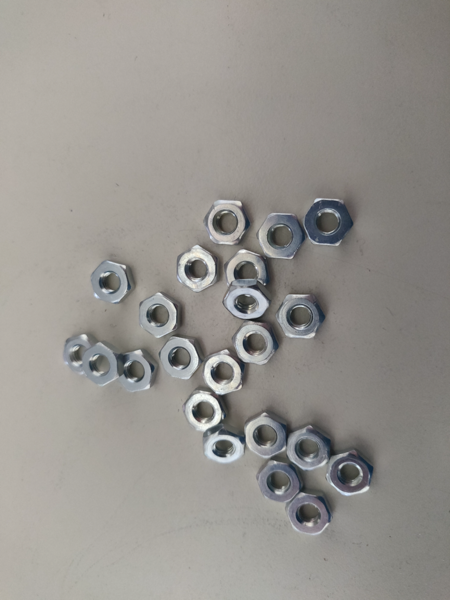nut: (202, 197, 252, 247), (305, 198, 354, 246), (328, 448, 375, 496), (177, 247, 224, 294), (244, 411, 289, 460), (278, 295, 327, 339), (288, 489, 333, 536), (256, 214, 302, 259), (288, 425, 333, 471), (224, 280, 270, 323), (138, 293, 180, 340), (91, 261, 133, 307), (257, 459, 300, 503), (235, 324, 278, 367), (203, 348, 242, 394), (82, 341, 121, 387), (161, 337, 200, 380), (185, 390, 225, 431), (204, 426, 245, 465), (120, 349, 157, 392), (228, 249, 265, 289), (64, 335, 91, 376)
